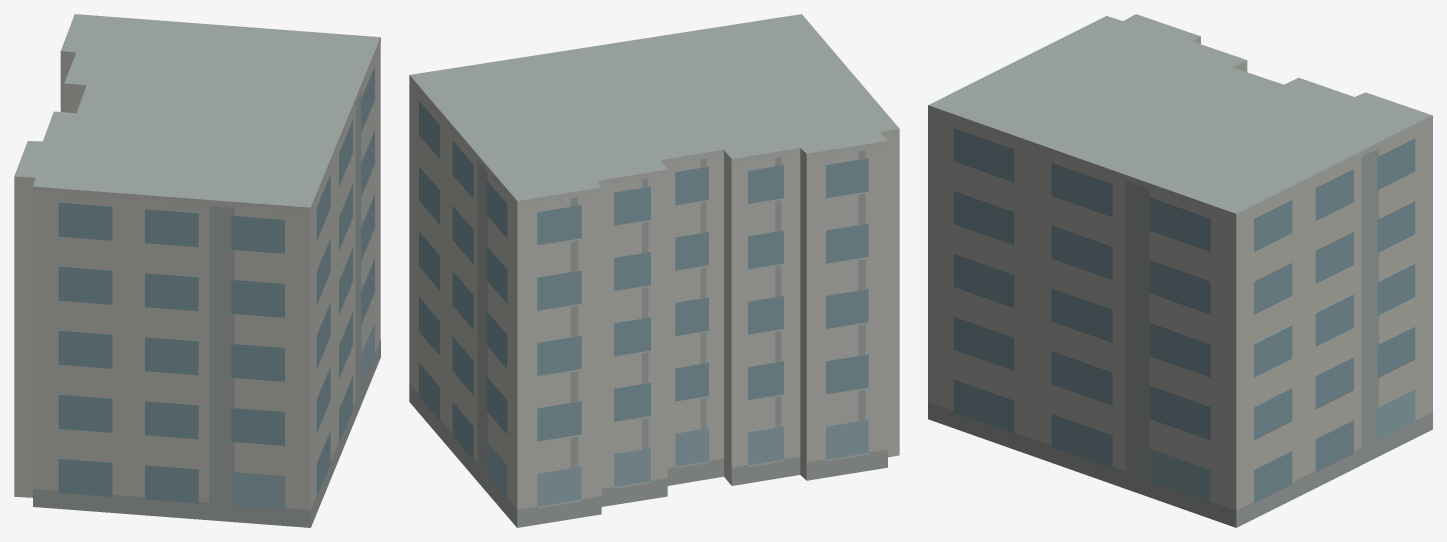
Rendered from survey-upis-32893365.glb.
3 views of the same model, side by side, from view 1: azimuth 30°, elevation 25°; view 2: azimuth 150°, elevation 25°; view 3: azimuth 270°, elevation 25° (orthographic). The views are drawn at different scales.
Visible parts, largest first — view 1: survey-upis-32893365.tmp; view 2: survey-upis-32893365.tmp; view 3: survey-upis-32893365.tmp.
Part boxes in pixels (<box>): survey-upis-32893365.tmp: <box>14,14,380,527</box>; survey-upis-32893365.tmp: <box>409,14,899,527</box>; survey-upis-32893365.tmp: <box>928,14,1432,527</box>.
Bounding box in the file's own units: 18.02 × 13.2 × 19.23.
